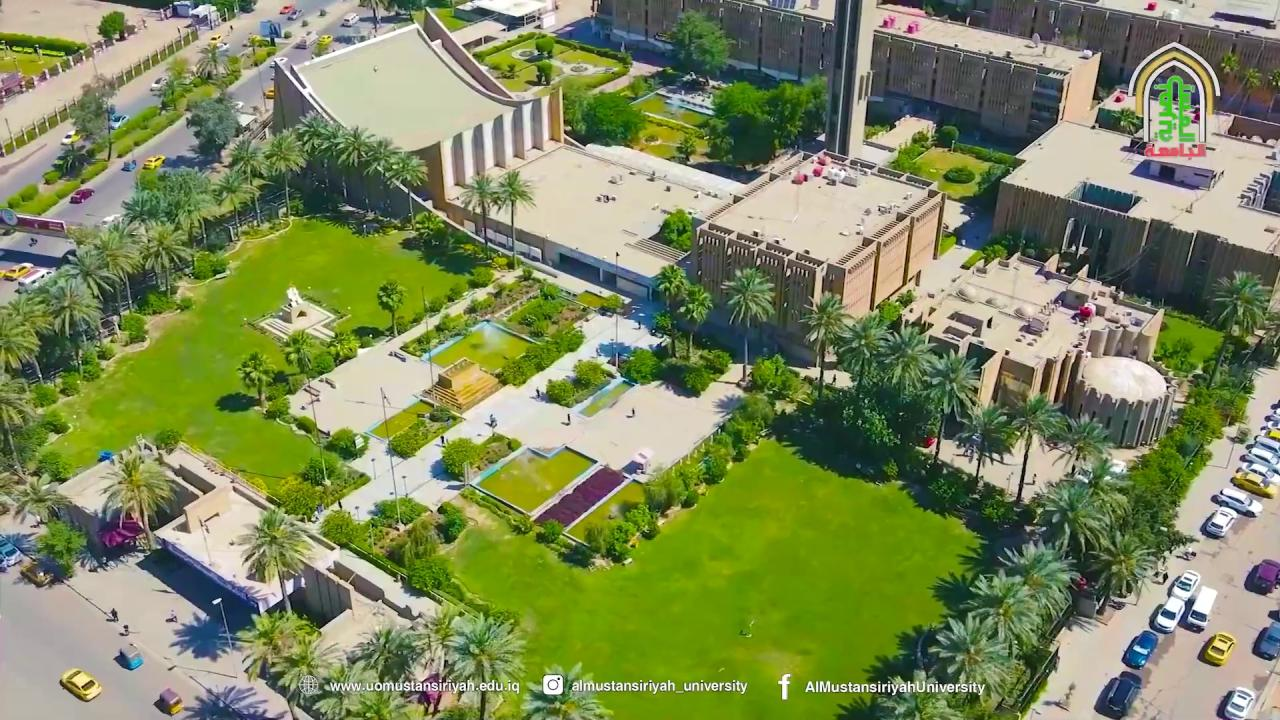car: (1121, 630, 1159, 669), (59, 669, 102, 702), (1212, 486, 1258, 516), (404, 672, 442, 708), (1186, 587, 1217, 631), (1104, 677, 1136, 719), (1150, 596, 1185, 634), (1236, 466, 1276, 499), (1221, 688, 1256, 720), (15, 267, 56, 293), (1168, 570, 1201, 602), (1250, 559, 1279, 595), (1205, 633, 1235, 666), (1205, 507, 1236, 538), (1237, 449, 1280, 467), (0, 537, 23, 568), (159, 688, 183, 716), (0, 262, 34, 281), (1259, 627, 1280, 652), (1257, 426, 1280, 448), (954, 431, 983, 448), (69, 187, 95, 204), (1072, 466, 1093, 484), (149, 76, 169, 94), (142, 155, 165, 170), (108, 113, 128, 130), (1107, 459, 1127, 476), (60, 130, 82, 145), (100, 213, 122, 227), (342, 12, 359, 27), (286, 9, 303, 20), (121, 160, 136, 172), (279, 4, 295, 14), (263, 89, 275, 99)
fountain: (467, 442, 603, 522), (410, 316, 541, 378), (562, 486, 654, 541), (634, 89, 719, 123), (364, 402, 443, 431)
person: (105, 607, 118, 622), (165, 609, 178, 623)
tree: (704, 79, 814, 165), (231, 505, 317, 613), (441, 610, 526, 719), (926, 613, 1014, 710), (96, 451, 176, 552), (959, 569, 1042, 658), (999, 391, 1064, 503), (234, 608, 321, 688), (918, 348, 979, 461), (995, 538, 1076, 622), (1028, 478, 1110, 560), (720, 266, 776, 382), (796, 289, 850, 399), (1086, 529, 1155, 614), (156, 166, 212, 270), (520, 661, 614, 719), (664, 7, 736, 77), (833, 309, 891, 393), (874, 326, 935, 400), (89, 227, 141, 312), (493, 167, 536, 269), (293, 110, 339, 202), (1045, 411, 1109, 476), (1209, 269, 1269, 338), (261, 128, 307, 218), (138, 222, 191, 298), (0, 373, 38, 478), (457, 170, 502, 258), (331, 123, 376, 211), (961, 402, 1010, 481), (226, 134, 268, 224), (7, 473, 75, 528), (276, 328, 332, 393), (383, 150, 429, 229), (44, 277, 103, 338), (651, 263, 689, 357), (765, 81, 812, 155), (185, 92, 238, 157), (211, 169, 260, 238), (34, 518, 88, 578), (362, 135, 401, 216), (69, 245, 120, 302), (0, 306, 41, 374), (677, 282, 713, 357), (235, 349, 276, 411), (439, 437, 489, 487), (582, 517, 635, 562), (1212, 371, 1255, 426), (689, 29, 736, 78), (318, 508, 365, 550), (68, 89, 108, 138), (277, 328, 317, 375), (120, 187, 165, 228), (602, 292, 626, 368), (376, 278, 406, 336), (1153, 335, 1195, 375), (403, 517, 438, 565), (653, 263, 688, 310), (700, 116, 734, 163), (32, 445, 74, 482), (659, 208, 693, 251), (622, 347, 661, 384), (498, 353, 538, 388), (651, 309, 680, 357), (356, 0, 396, 33), (411, 210, 446, 247), (325, 329, 360, 365), (572, 358, 607, 387), (681, 366, 714, 396), (194, 42, 220, 79), (1114, 106, 1144, 138), (152, 427, 185, 456), (545, 378, 577, 407), (97, 10, 125, 41), (534, 518, 564, 546), (674, 132, 698, 164), (979, 243, 1008, 269), (936, 124, 960, 151), (1219, 51, 1239, 76), (534, 59, 553, 85)
